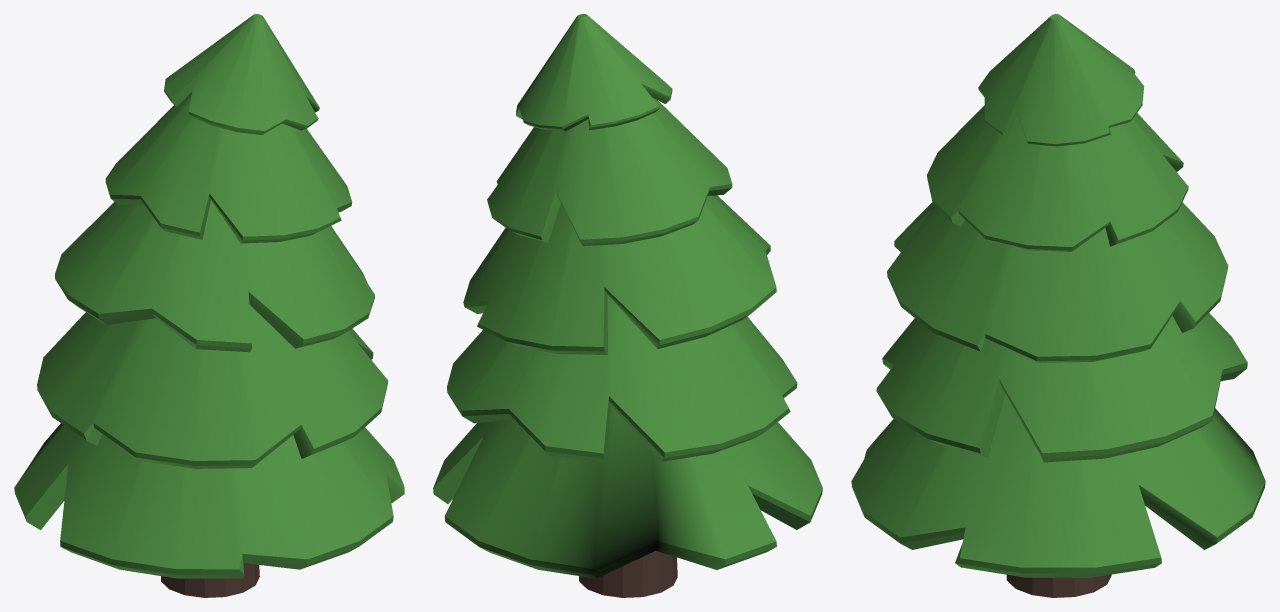
The model's file is Tree 2.fbx.
3 renders of one model, left to right at view 1: azimuth 30°, elevation 25°; view 2: azimuth 150°, elevation 25°; view 3: azimuth 270°, elevation 25°, orthographic. The views are drawn at different scales.
Visible parts, largest first — view 1: Tree 2; view 2: Tree 2; view 3: Tree 2.
Part boxes in pixels (x1=…): Tree 2: x1=14, y1=14, x2=404, y2=597; Tree 2: x1=433, y1=14, x2=822, y2=597; Tree 2: x1=851, y1=14, x2=1265, y2=597.
Bounding box in the file's own units: 3.74 × 5.9 × 3.79.
